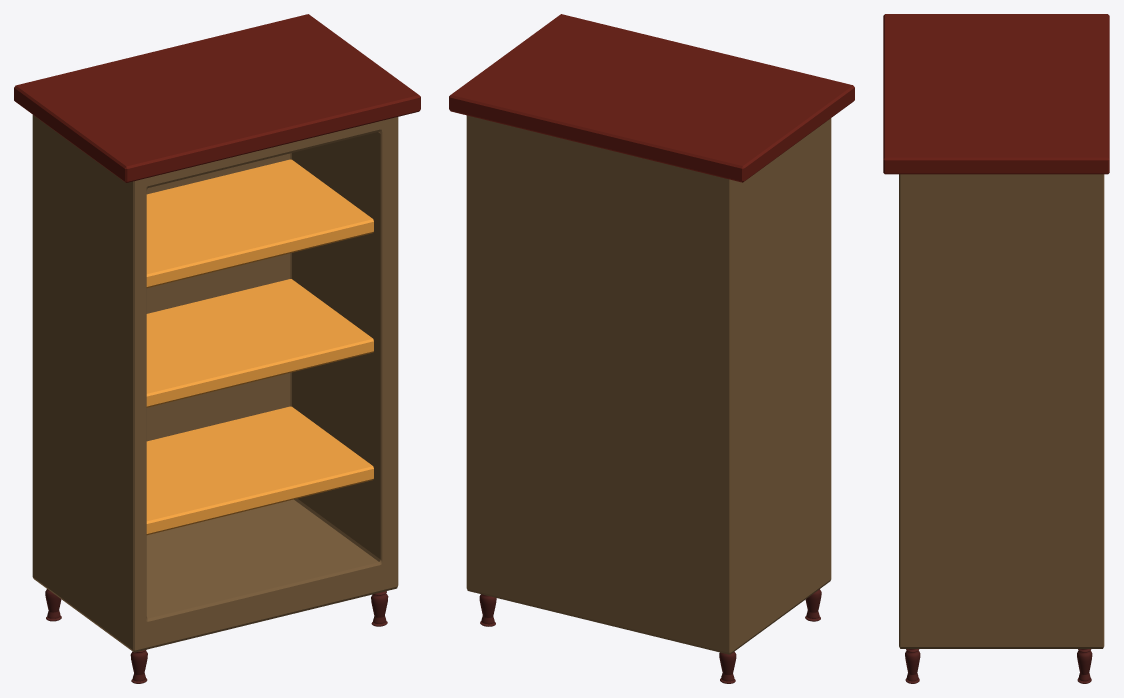
Rendered from bookshelf.obj.
3 views of the same model, side by side, from view 1: azimuth 30°, elevation 25°; view 2: azimuth 150°, elevation 25°; view 3: azimuth 270°, elevation 25° (orthographic).
Visible parts, largest first — view 1: pCube82 polySurface281, polySurface282 pCube82, pCube82 polySurface291, pCube82 polySurface292, pCube82 polySurface293, polySurface289; view 2: pCube82 polySurface281, polySurface282 pCube82, polySurface289; view 3: pCube82 polySurface281, polySurface282 pCube82, polySurface289.
Part boxes in pixels (<box>): pCube82 polySurface281: <box>32,115,398,652</box>; polySurface282 pCube82: <box>14,14,420,182</box>; pCube82 polySurface291: <box>146,159,373,288</box>; pCube82 polySurface292: <box>146,406,373,535</box>; pCube82 polySurface293: <box>146,279,373,407</box>; polySurface289: <box>45,589,388,683</box>; pCube82 polySurface281: <box>466,115,831,654</box>; polySurface282 pCube82: <box>449,14,854,182</box>; polySurface289: <box>479,589,821,683</box>; pCube82 polySurface281: <box>899,174,1104,648</box>; polySurface282 pCube82: <box>883,14,1109,174</box>; polySurface289: <box>905,649,1092,683</box>.
Bounding box in the file's own units: 0.6549 × 1.13 × 0.4316.
